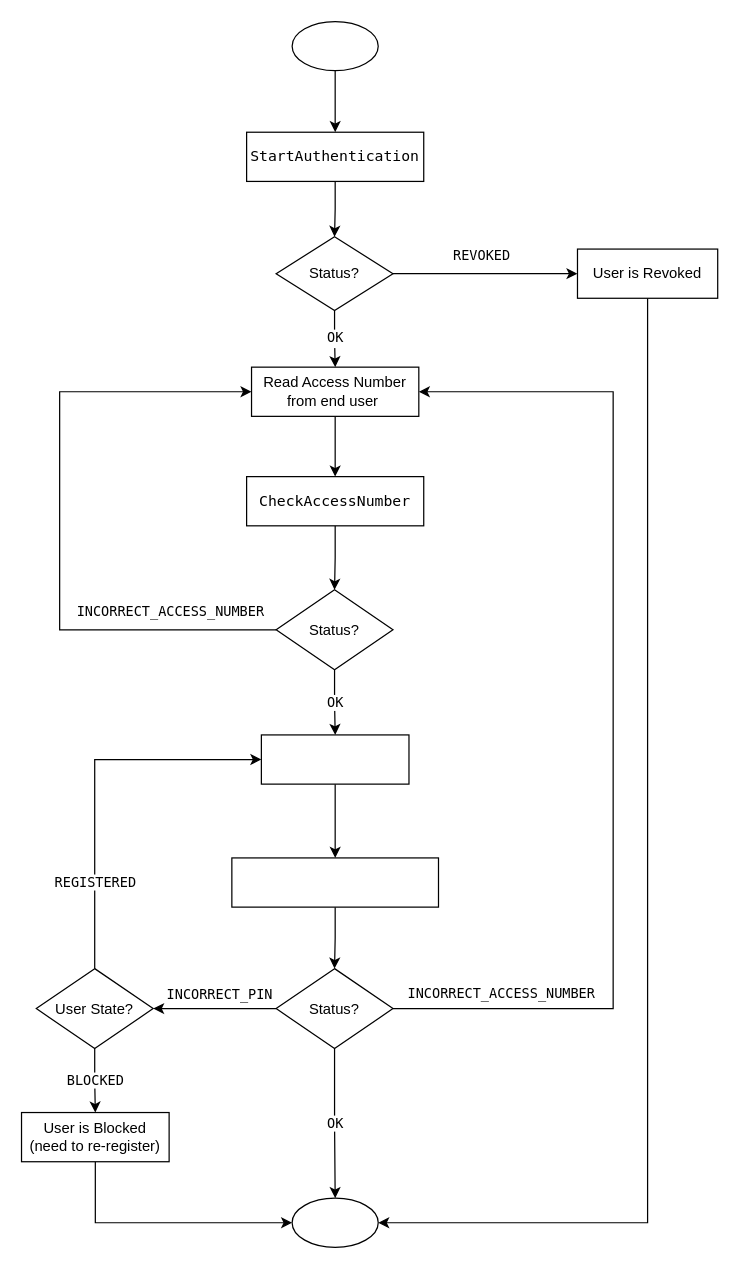
The diagram is 739 pixels wide and 1269 high, and some of its shapes have lost their labels. Each missing label, with the centre of its shape:
End: pixel 334 1222
FinishAuthenticationAN: pixel 334 882
Read Secret (PIN) from end user: pixel 334 759
Start: pixel 334 45
